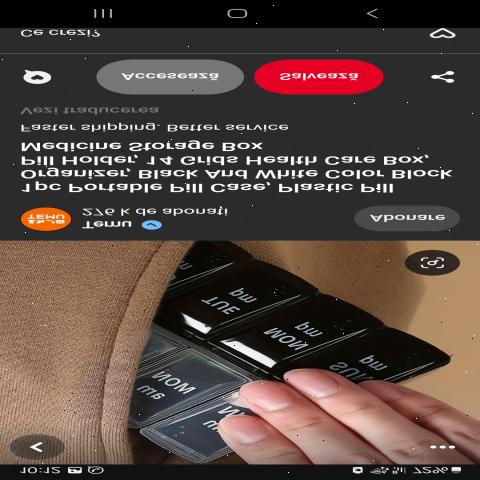PillBox: (98, 244, 461, 462)
